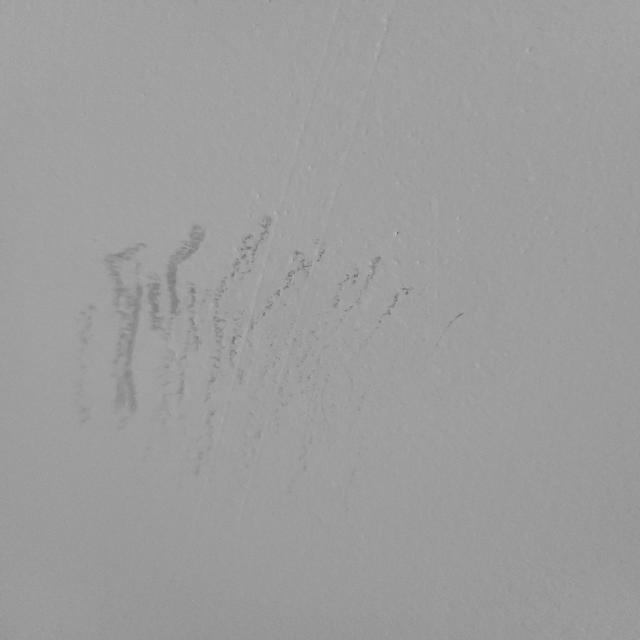stain marks: (58, 208, 468, 443)
